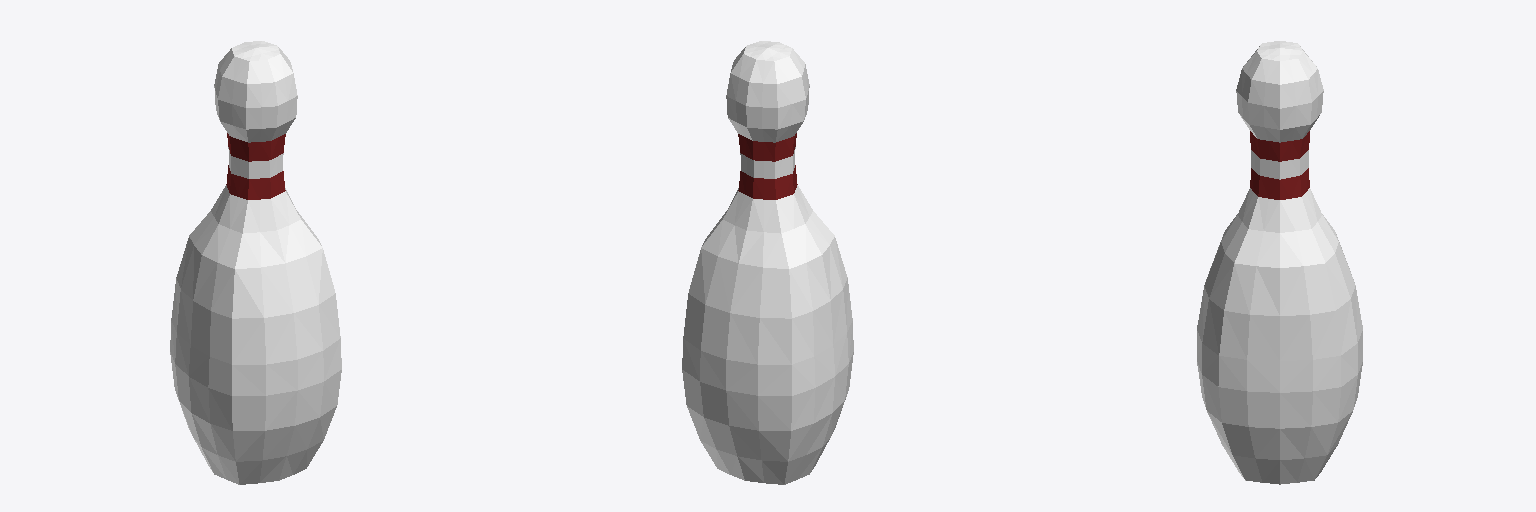
3 renders of one model, left to right at view 1: azimuth 30°, elevation 25°; view 2: azimuth 150°, elevation 25°; view 3: azimuth 270°, elevation 25°, orthographic.
Visible parts, largest first — view 1: Pin.008; view 2: Pin.008; view 3: Pin.008.
Part boxes in pixels (x1,y1,x2,y2): Pin.008: (170, 41, 341, 484); Pin.008: (682, 41, 853, 484); Pin.008: (1197, 41, 1362, 484).
Size of the model in its own units: 1.37 by 4.06 by 1.47.
2 materials, 2 textured.